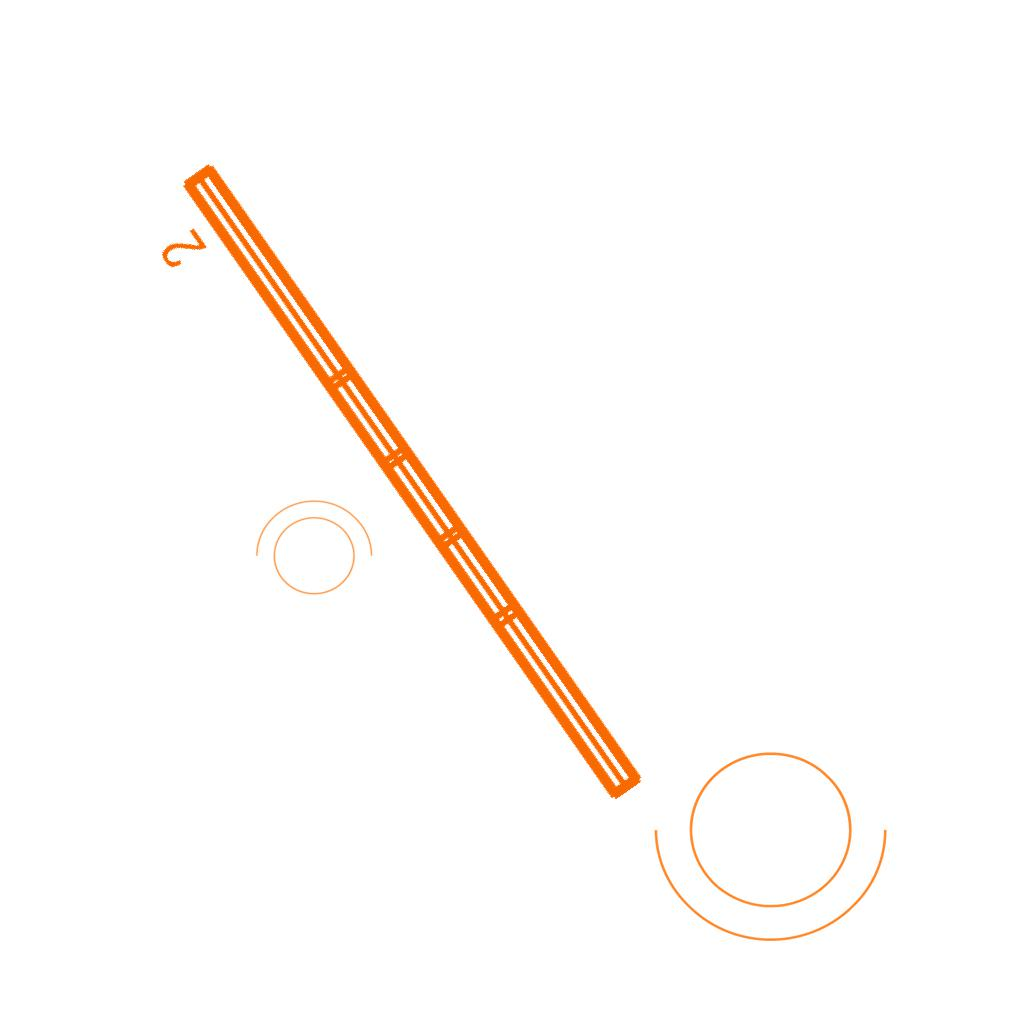Ambulanz_Pendelleuchte_LED: (124, 147, 660, 847)
Scheinwerfer_fuer_Alarmbeleuchtung: (645, 727, 909, 952), (245, 495, 377, 607)
